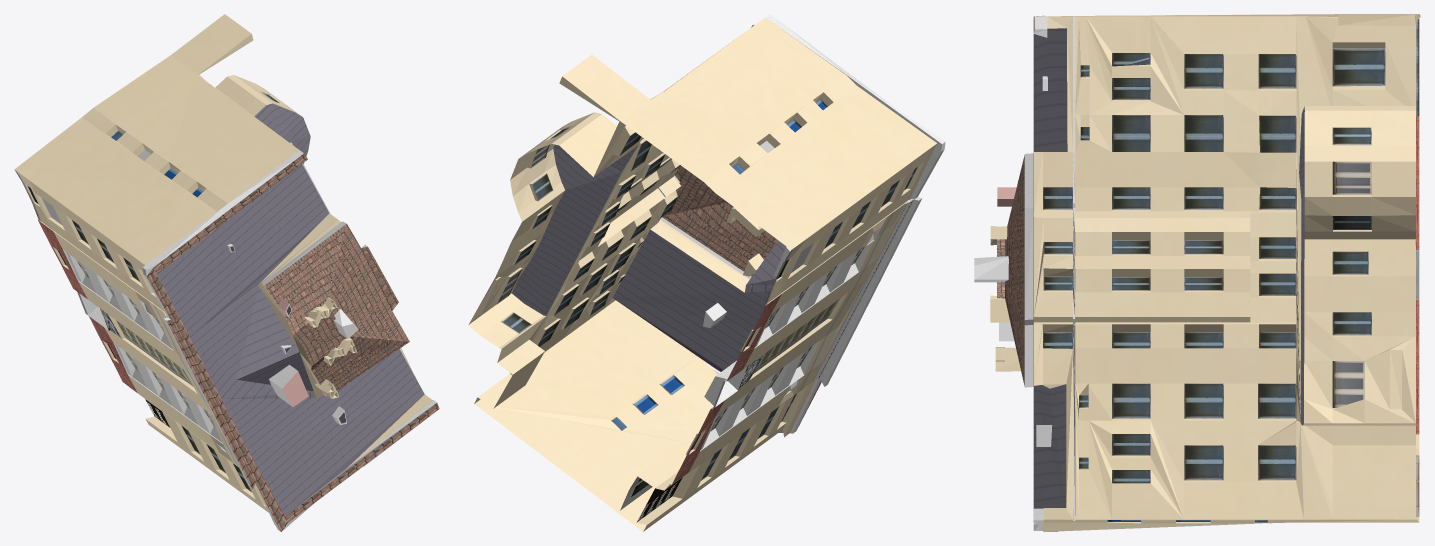
The model's file is Toompuiestee12-origo.obj.
3 views of the same model, side by side, from view 1: azimuth 30°, elevation 25°; view 2: azimuth 150°, elevation 25°; view 3: azimuth 270°, elevation 25° (orthographic). The views are drawn at different scales.
Visible parts, largest first — view 1: polySurface14; view 2: polySurface14; view 3: polySurface14.
Part boxes in pixels (left/top/right/bottom): polySurface14: left=14, top=14, right=439, bottom=531; polySurface14: left=468, top=14, right=945, bottom=531; polySurface14: left=974, top=14, right=1420, bottom=531.
Bounding box in the file's own units: 22.19 × 28.5 × 20.24.
